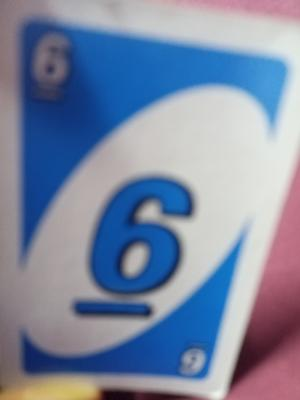blue: (17, 25, 216, 381)
num_6: (28, 26, 76, 98)
